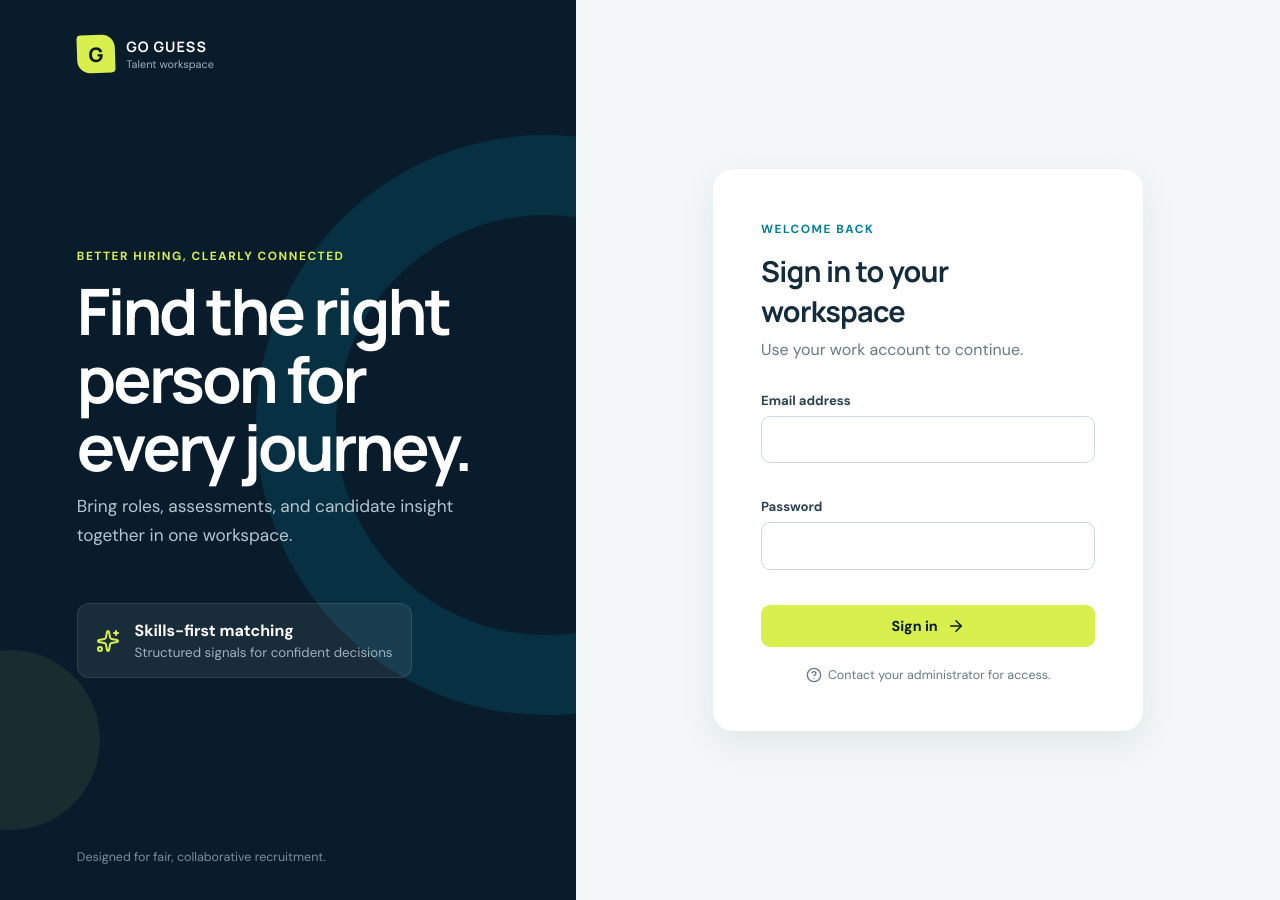
Test case: Go Guess frontend › persists login, navigates from the login URL, and shows API jobs
In the field labelled "Email address": (928, 439) [761,416,1095,463], type "interviewer@go-guess.local"
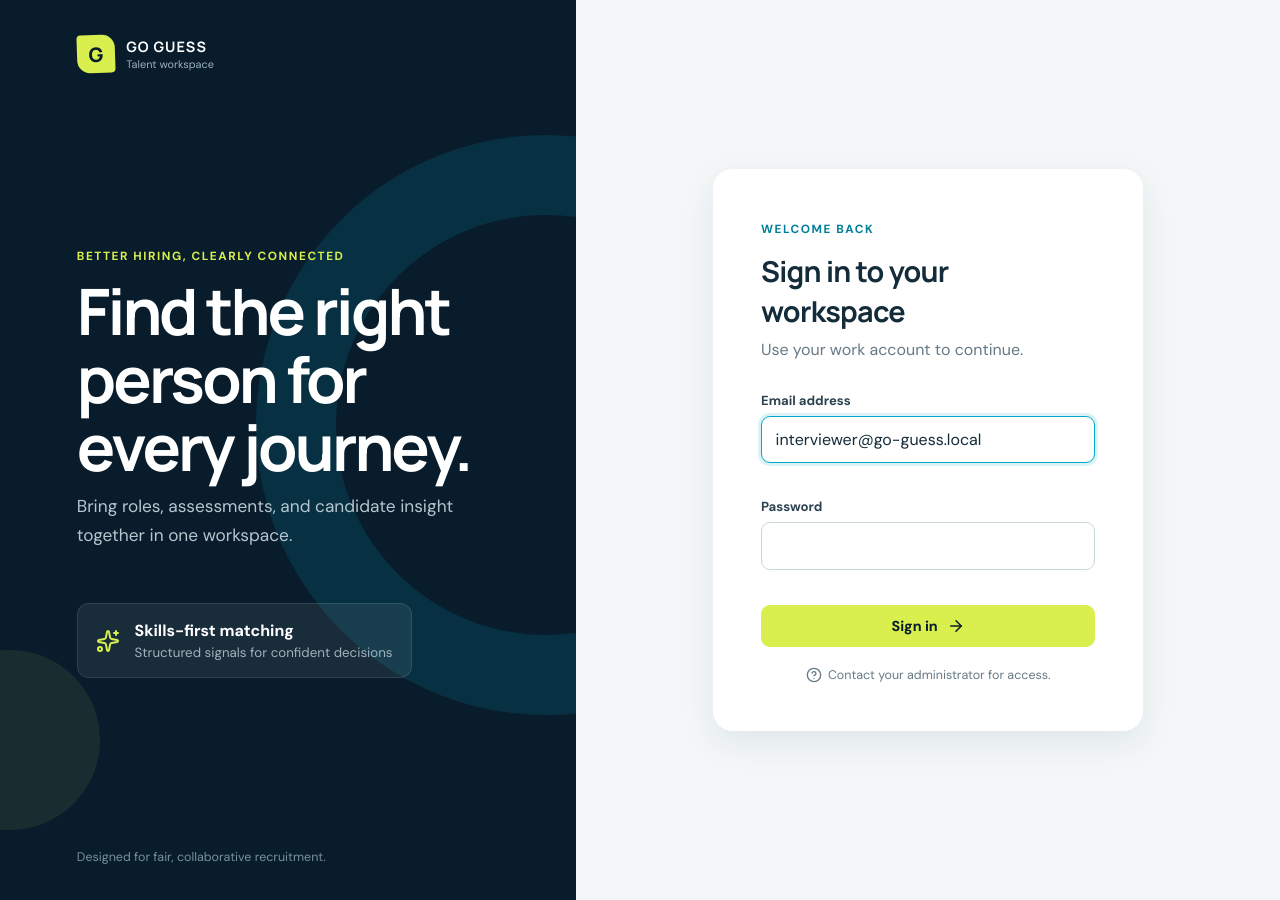
In the password field labelled "Password": (928, 546) [761,522,1095,570], type "admin123"
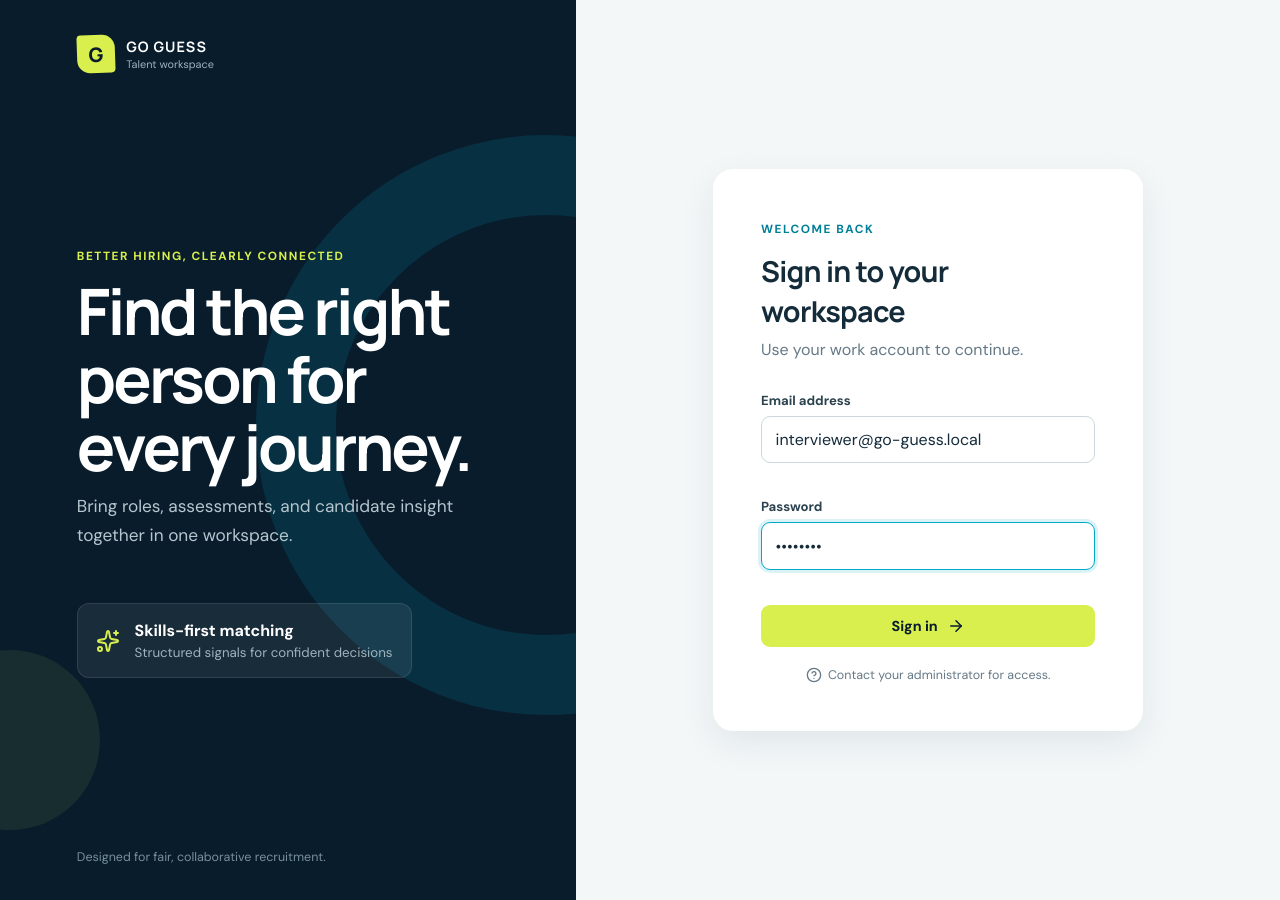
Click the button "Sign in": (928, 626) [761,605,1095,647]
(page scrolled)
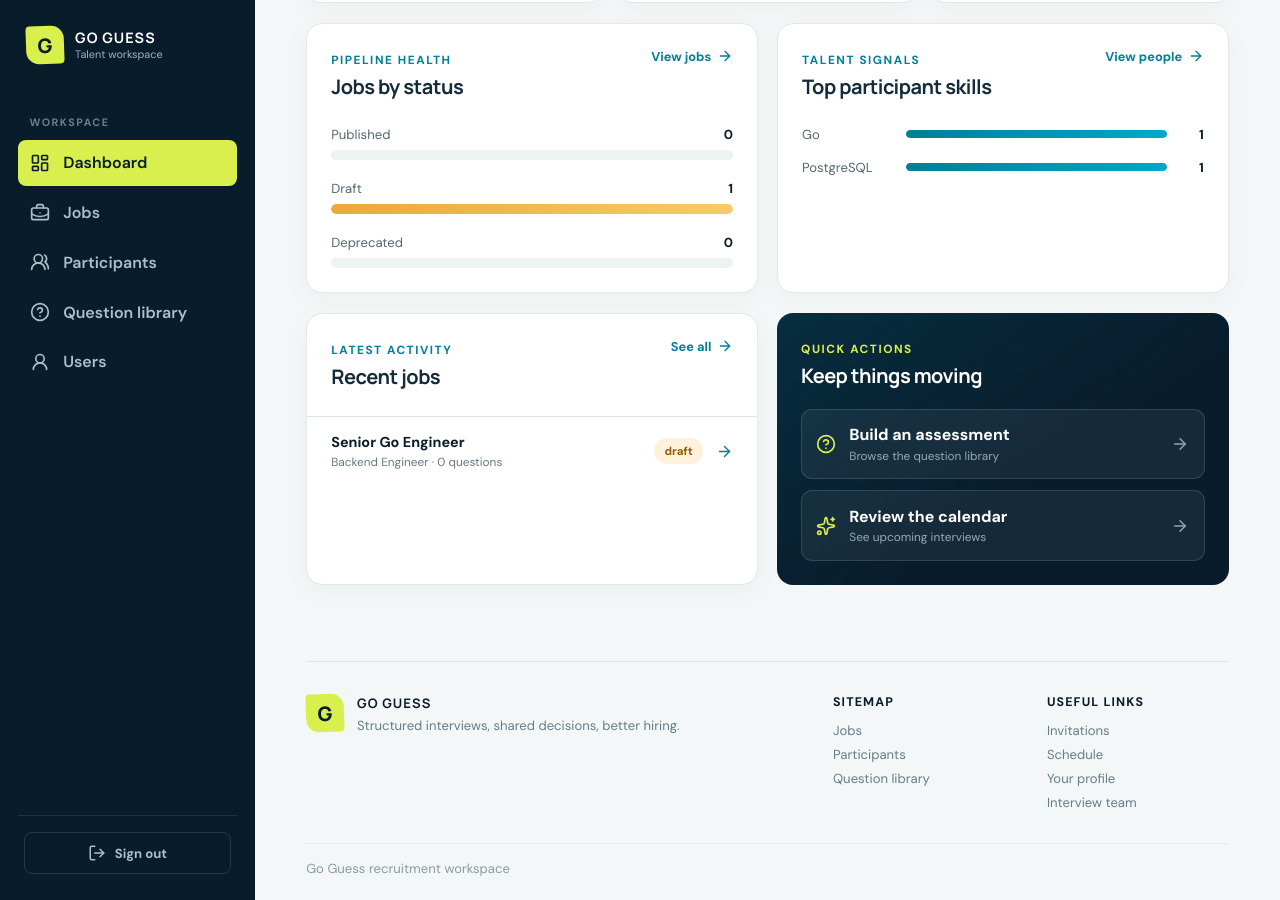
expect the link "Senior Go Engineer Backend Engineer · 0 questions draft" is shown: met, box [307,416,757,486]
